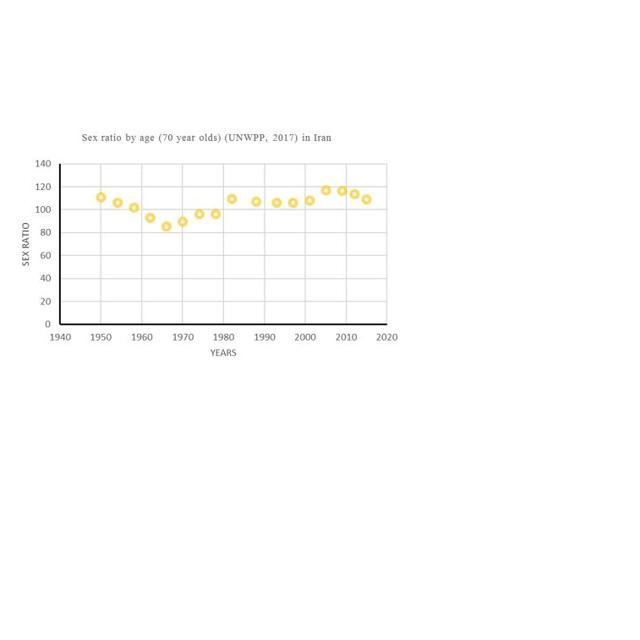Graph: (11, 130, 405, 360)
